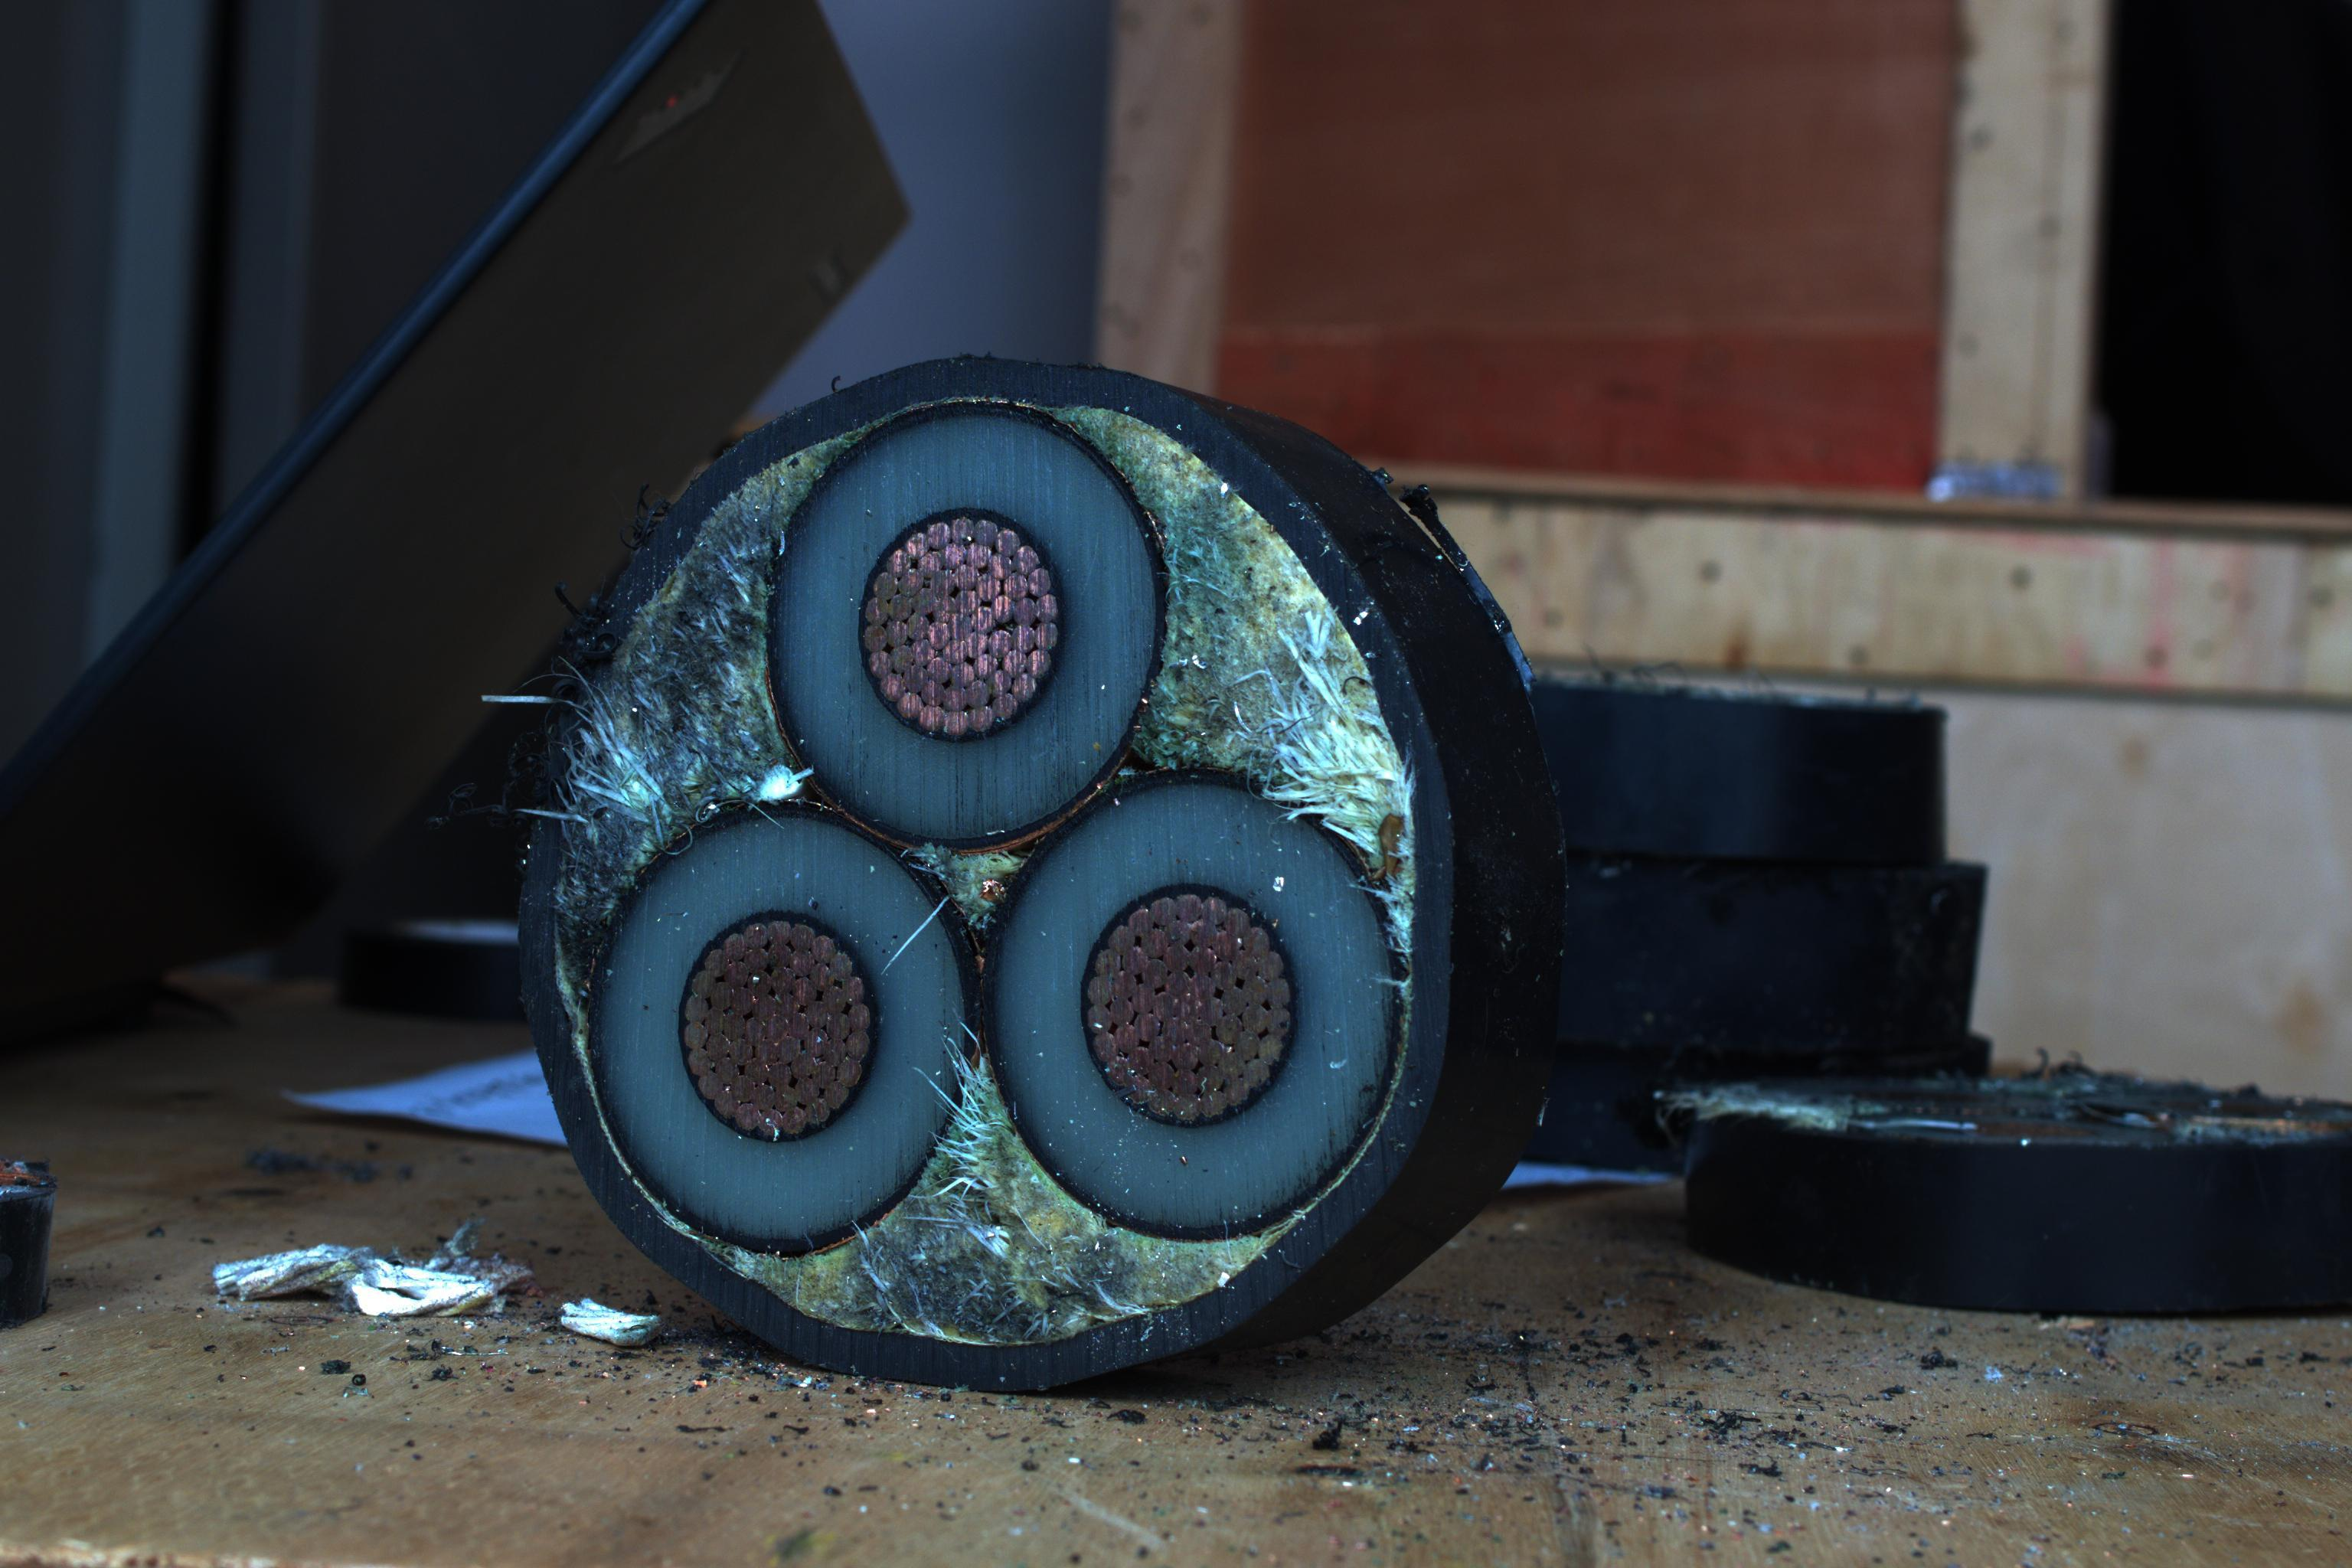ZA_YJV_26_35kV_3x400: (520, 385, 1489, 1379)
